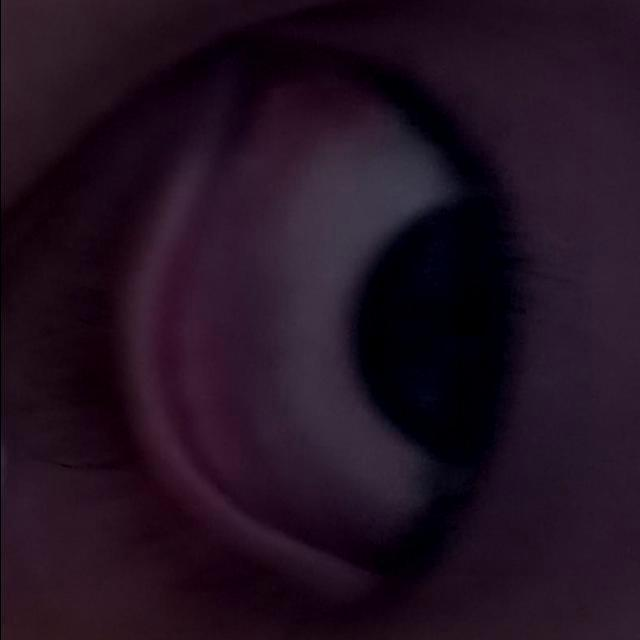conjunctiva_pallor: (146, 89, 362, 564)
